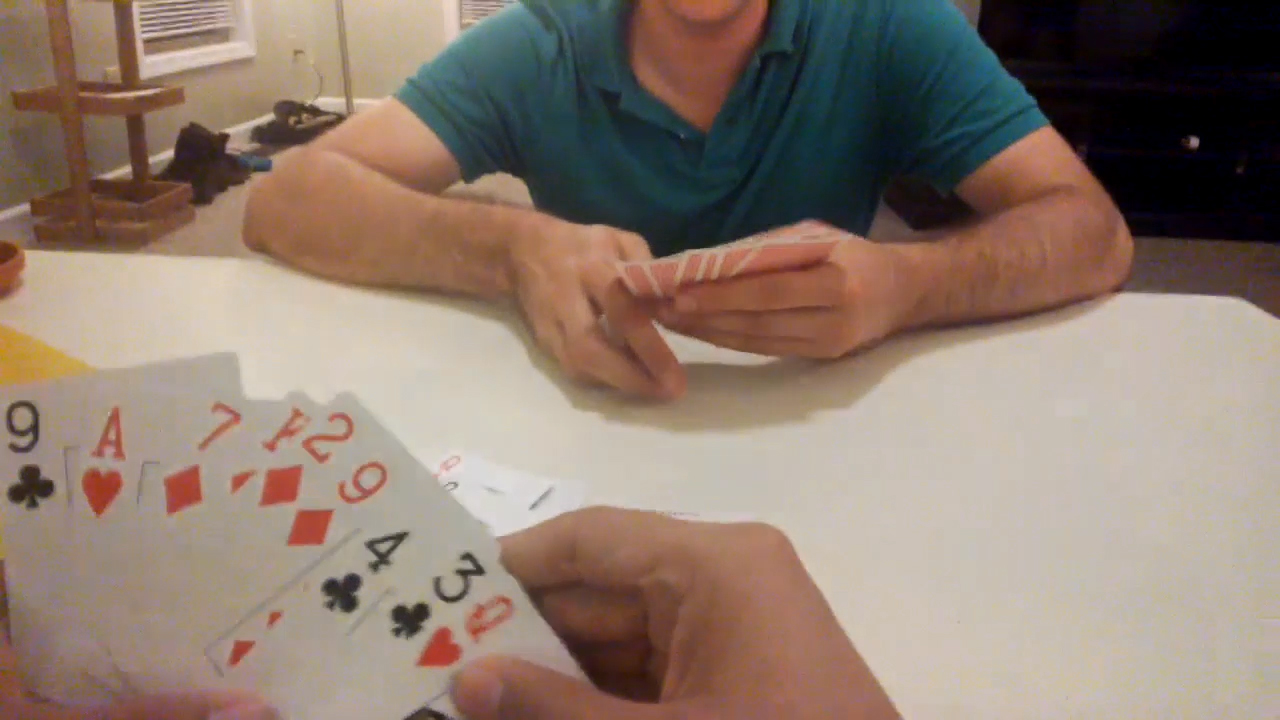hand: (443, 505, 896, 718), (517, 210, 684, 396), (664, 234, 901, 364), (6, 622, 265, 718)
